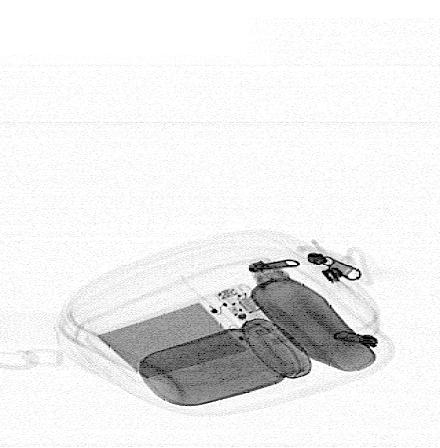Powerbank: (89, 283, 310, 385)
